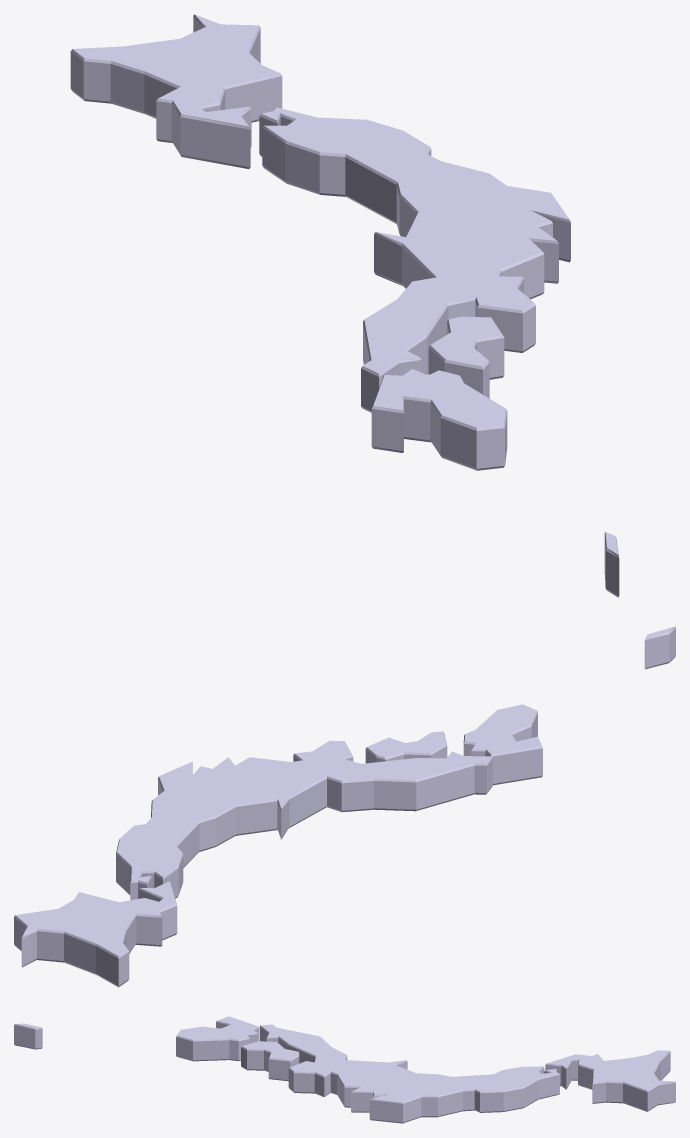
The model's file is JPN.glb.
The picture shows the model from 3 angles, top to bottom: view 1: azimuth 30°, elevation 25°; view 2: azimuth 150°, elevation 25°; view 3: azimuth 270°, elevation 25°; orthographic projection. The views are drawn at different scales.
Size of the model in its own units: 0.5893 by 0.068 by 1.91.
